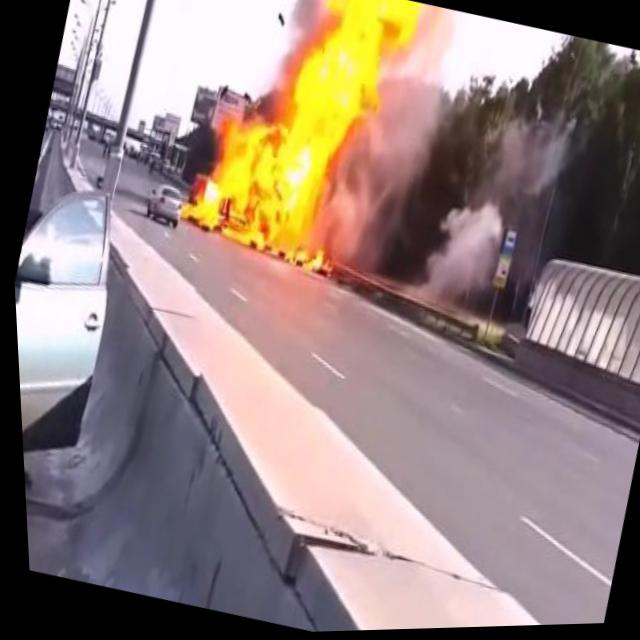fire: (161, 0, 443, 293)
